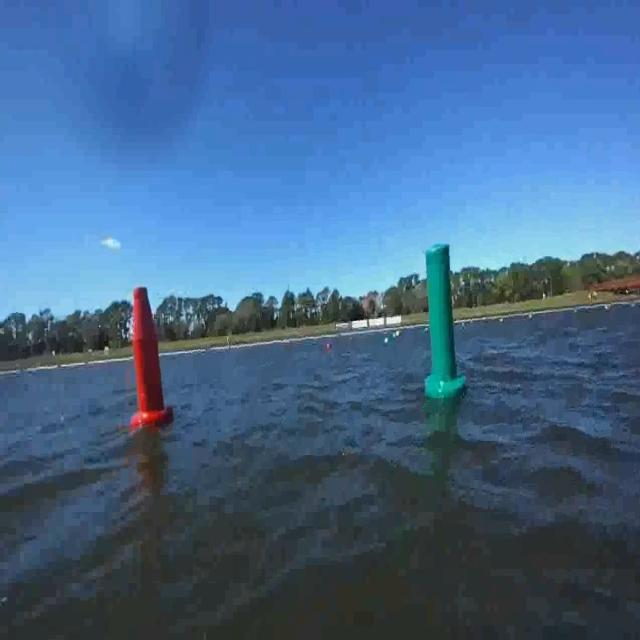green-column-buoy: (422, 240, 465, 398)
red-column-buoy: (130, 283, 173, 429)
